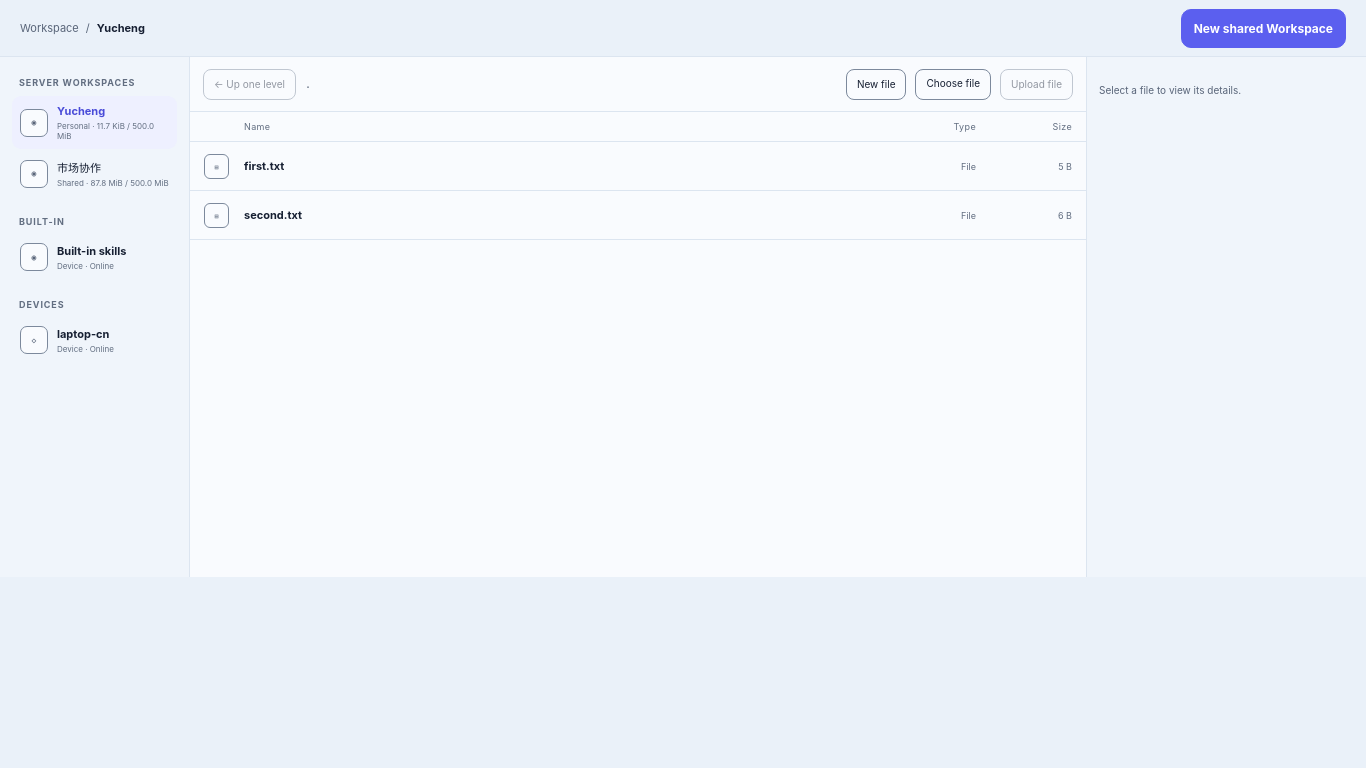
Scenario: WorkspacePage › keeps the latest selected file content and ETag when an earlier read resolves last
Click the button "▤ first.txt File 5 B" at (264, 166), box 190,142 -> 1086,190
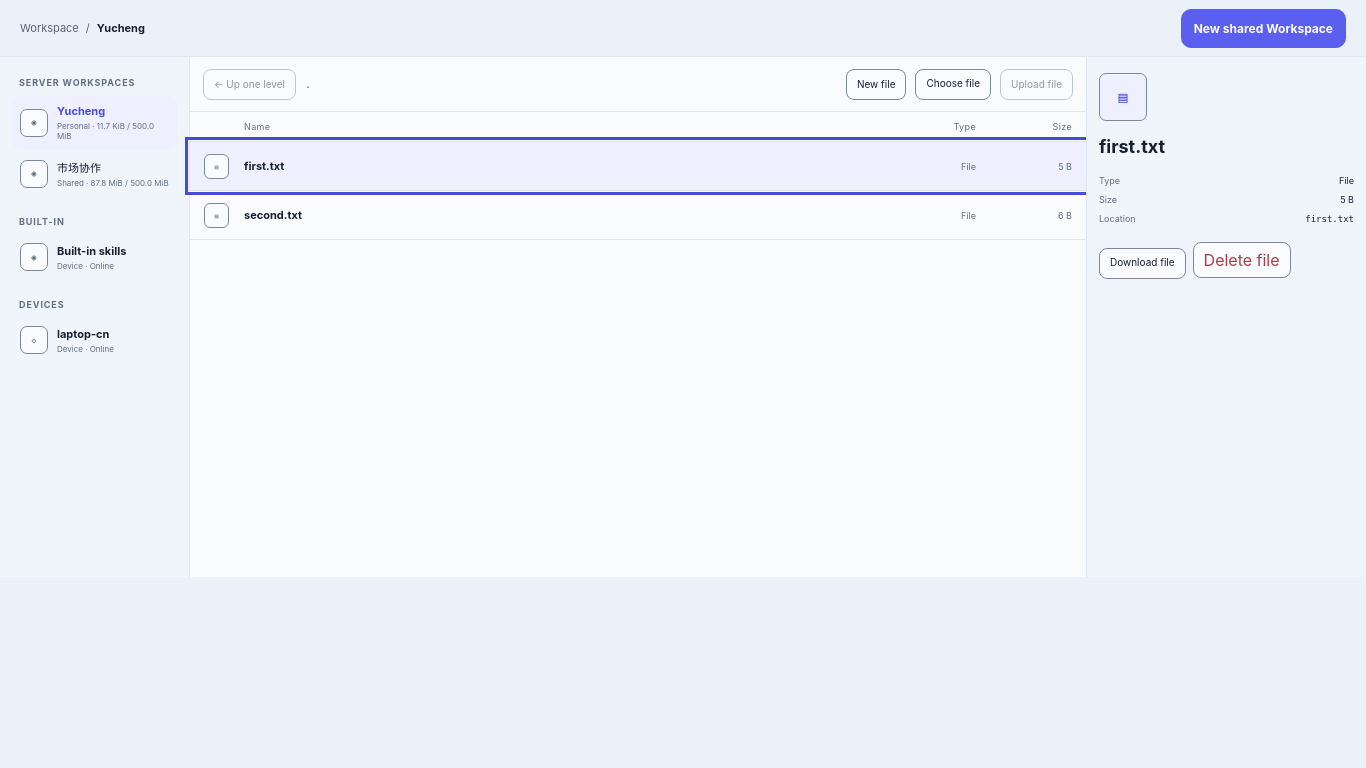
Click the button "▤ second.txt File 6 B" at (273, 215), box 190,191 -> 1086,239
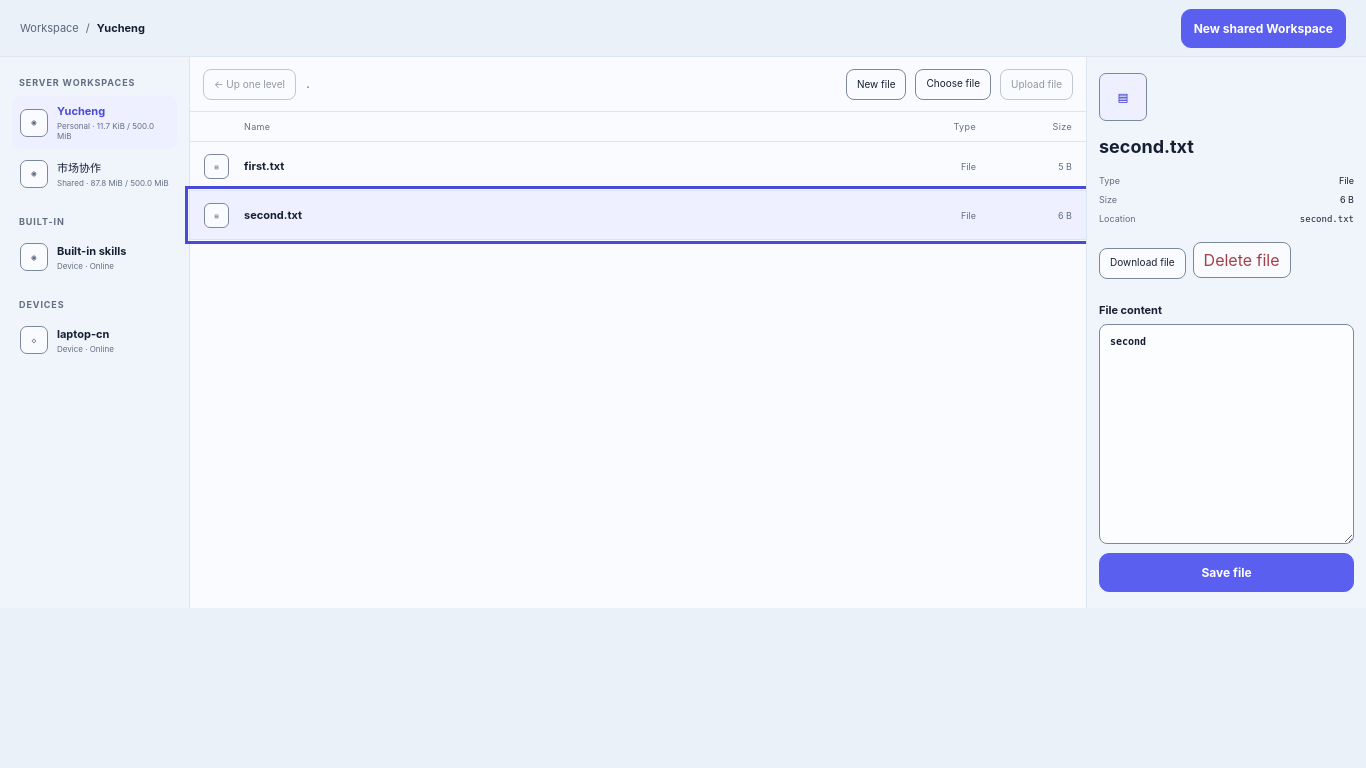
Result: the text box labelled "File content" holds "second"
Replace the text in the text box labelled "File content" with "second updated" at (1226, 434), box 1099,324 -> 1354,544
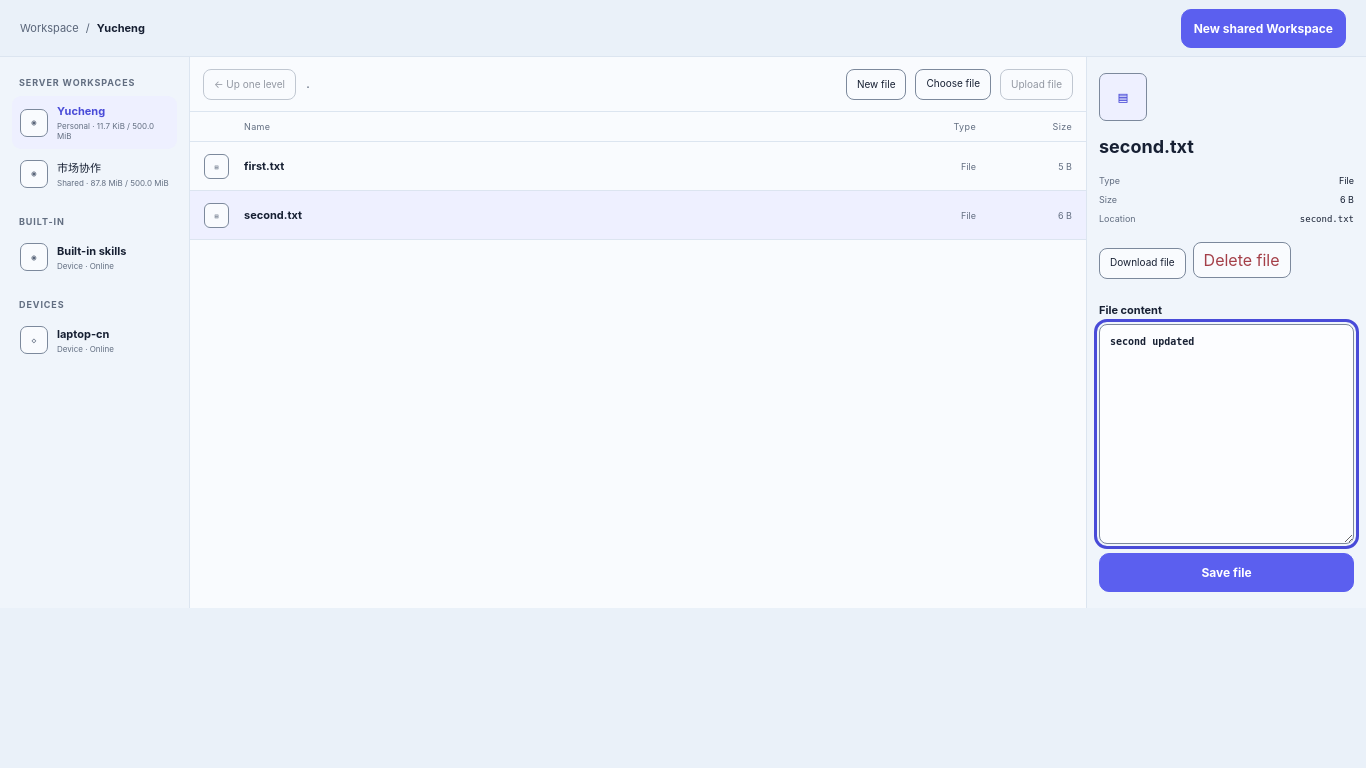
Click the button "Save file" at (1226, 572), box 1099,553 -> 1354,592
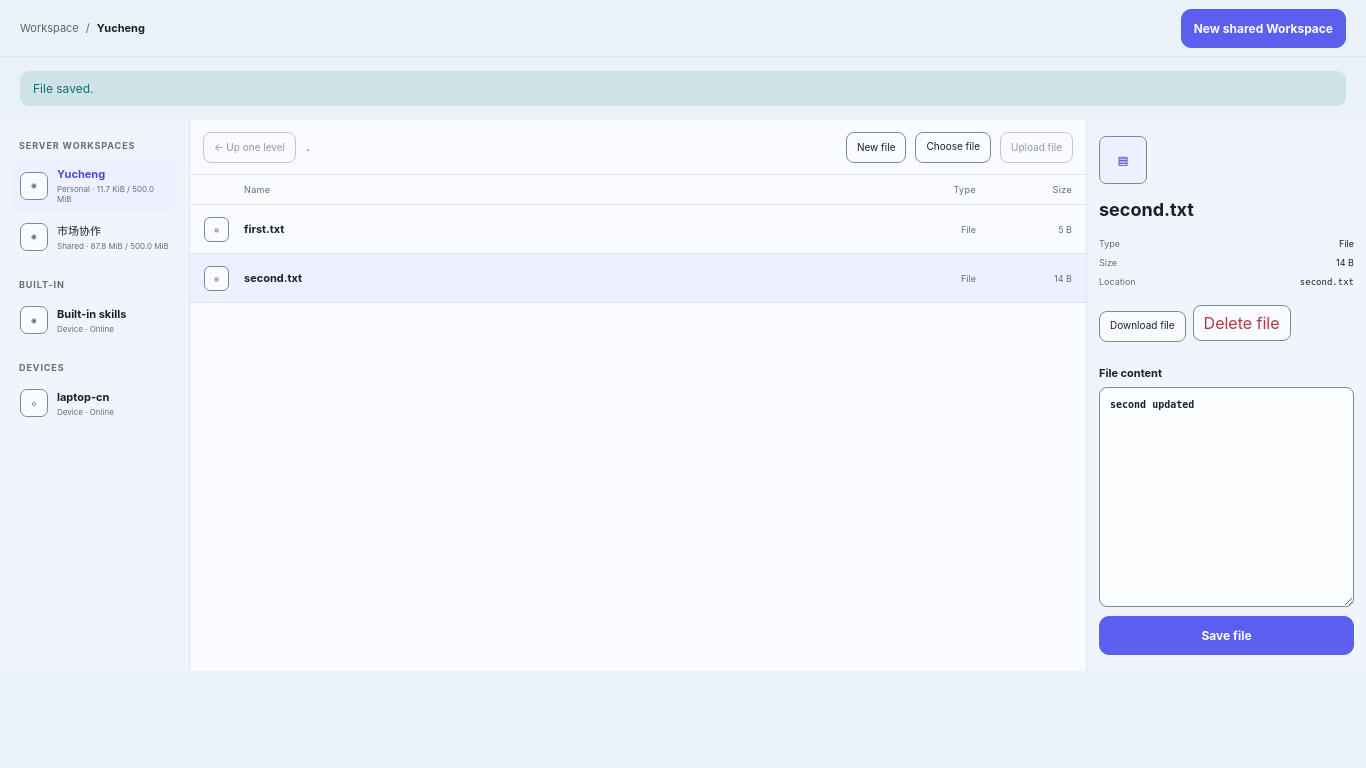
Result: the text "File saved." is shown at 20,71 -> 1346,106
